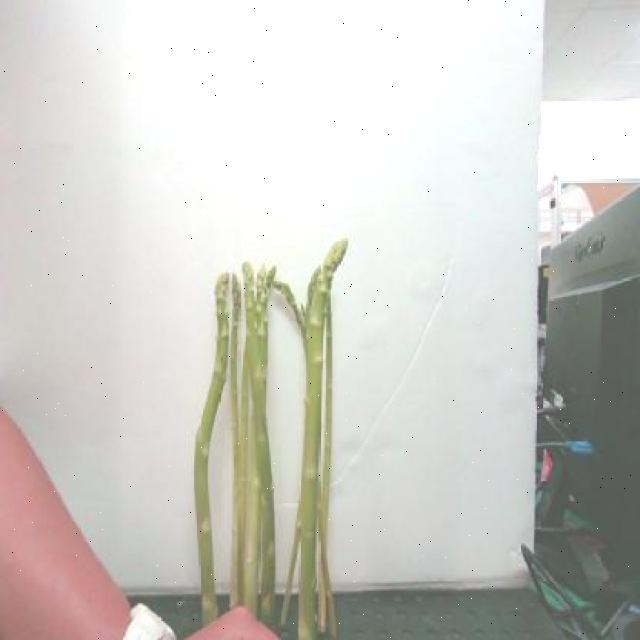aspargus: (291, 229, 353, 640), (186, 265, 234, 627)
